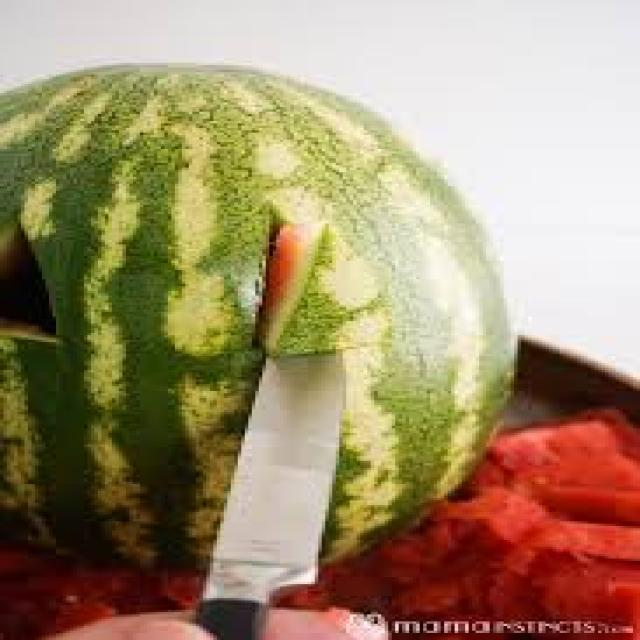watermelon: (0, 60, 518, 582)
